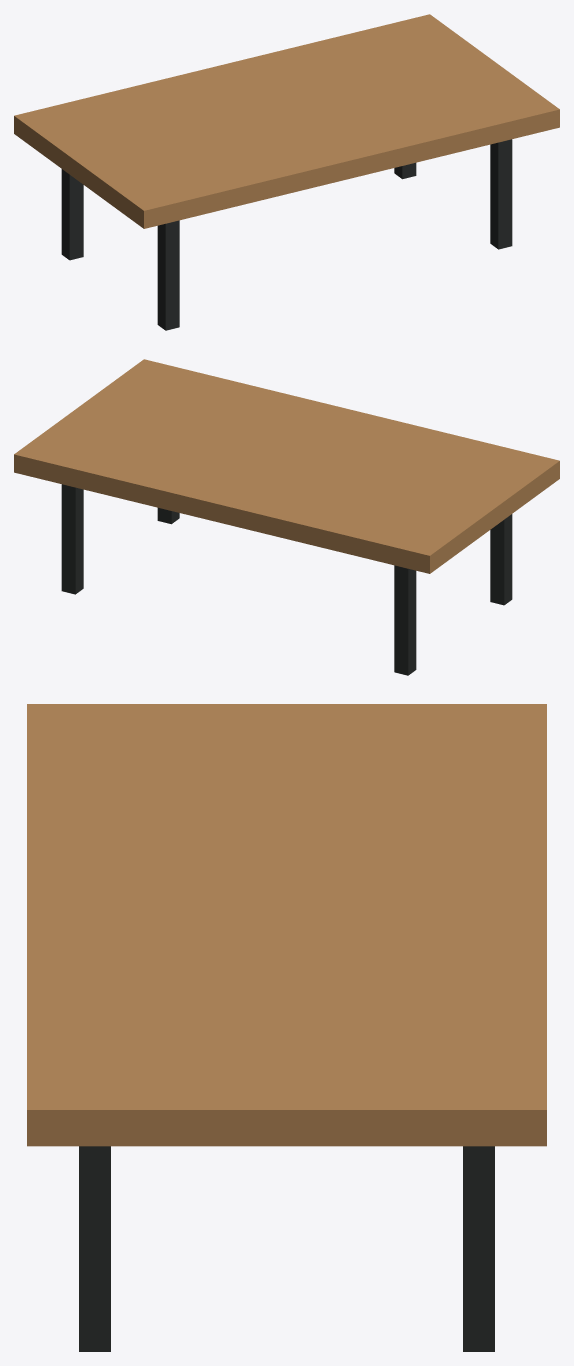
Rendered from coffee-table.glb.
The picture shows the model from 3 angles, top to bottom: view 1: azimuth 30°, elevation 25°; view 2: azimuth 150°, elevation 25°; view 3: azimuth 270°, elevation 25°; orthographic projection. The views are drawn at different scales.
Parts seen in each view (by area): view 1: top, frame_leg_0.48_0.24, frame_leg_-0.48_0.24, frame_leg_-0.48_-0.24; view 2: top, frame_leg_0.48_-0.24, frame_leg_-0.48_-0.24, frame_leg_-0.48_0.24; view 3: top, frame_leg_0.48_-0.24, frame_leg_0.48_0.24.
Part boxes in pixels (x1,y1,x2,y2): top: [14, 14, 559, 228]; frame_leg_0.48_0.24: [490, 139, 512, 249]; frame_leg_-0.48_0.24: [157, 220, 179, 330]; frame_leg_-0.48_-0.24: [61, 169, 83, 260]; top: [14, 359, 559, 573]; frame_leg_0.48_-0.24: [61, 484, 83, 594]; frame_leg_-0.48_-0.24: [394, 565, 416, 675]; frame_leg_-0.48_0.24: [490, 514, 512, 605]; top: [27, 704, 546, 1146]; frame_leg_0.48_-0.24: [463, 1146, 494, 1351]; frame_leg_0.48_0.24: [79, 1146, 110, 1351].
Size of the model in its own units: 1.2 by 0.38 by 0.65.
